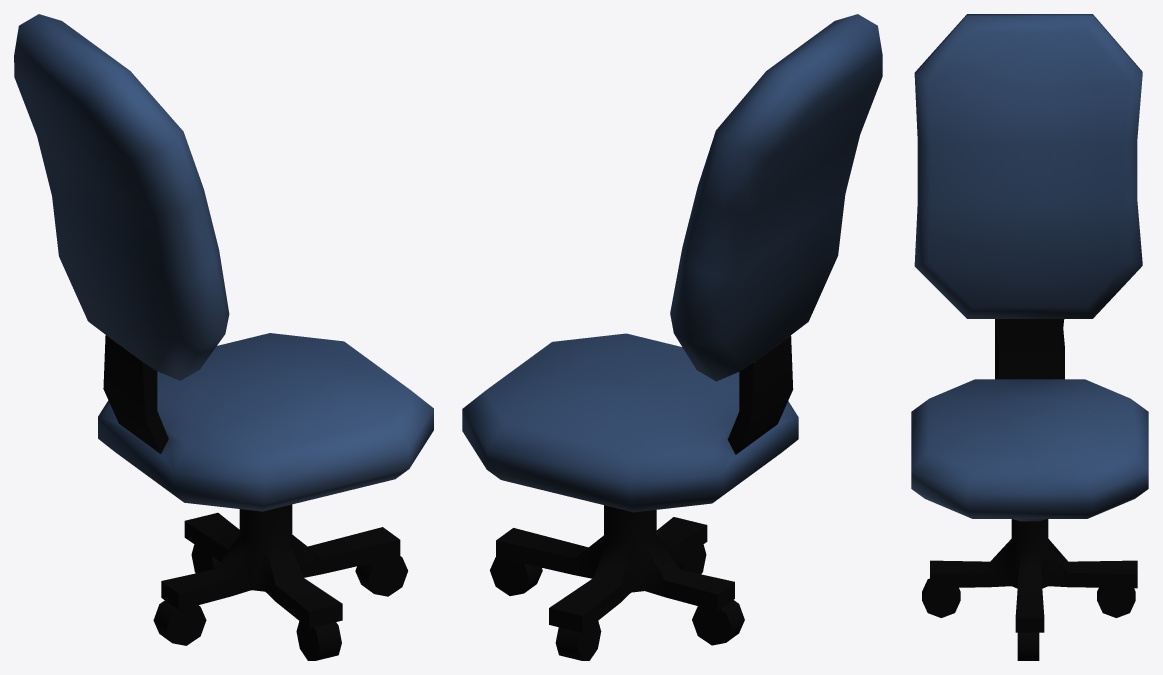
The model's file is st_chair.fbx.
The picture shows the model from 3 angles, left to right: view 1: azimuth 30°, elevation 25°; view 2: azimuth 150°, elevation 25°; view 3: azimuth 270°, elevation 25°; orthographic projection. The views are drawn at different scales.
Visible parts, largest first — view 1: st_chair; view 2: st_chair; view 3: st_chair.
Boxes of the visible parts, x1,y1,x2,y2 form: st_chair: (14,14,433,660); st_chair: (462,14,882,660); st_chair: (911,14,1148,660).
Size of the model in its own units: 110 by 186 by 76.89.
Materials: 1 (1 with a texture image).
